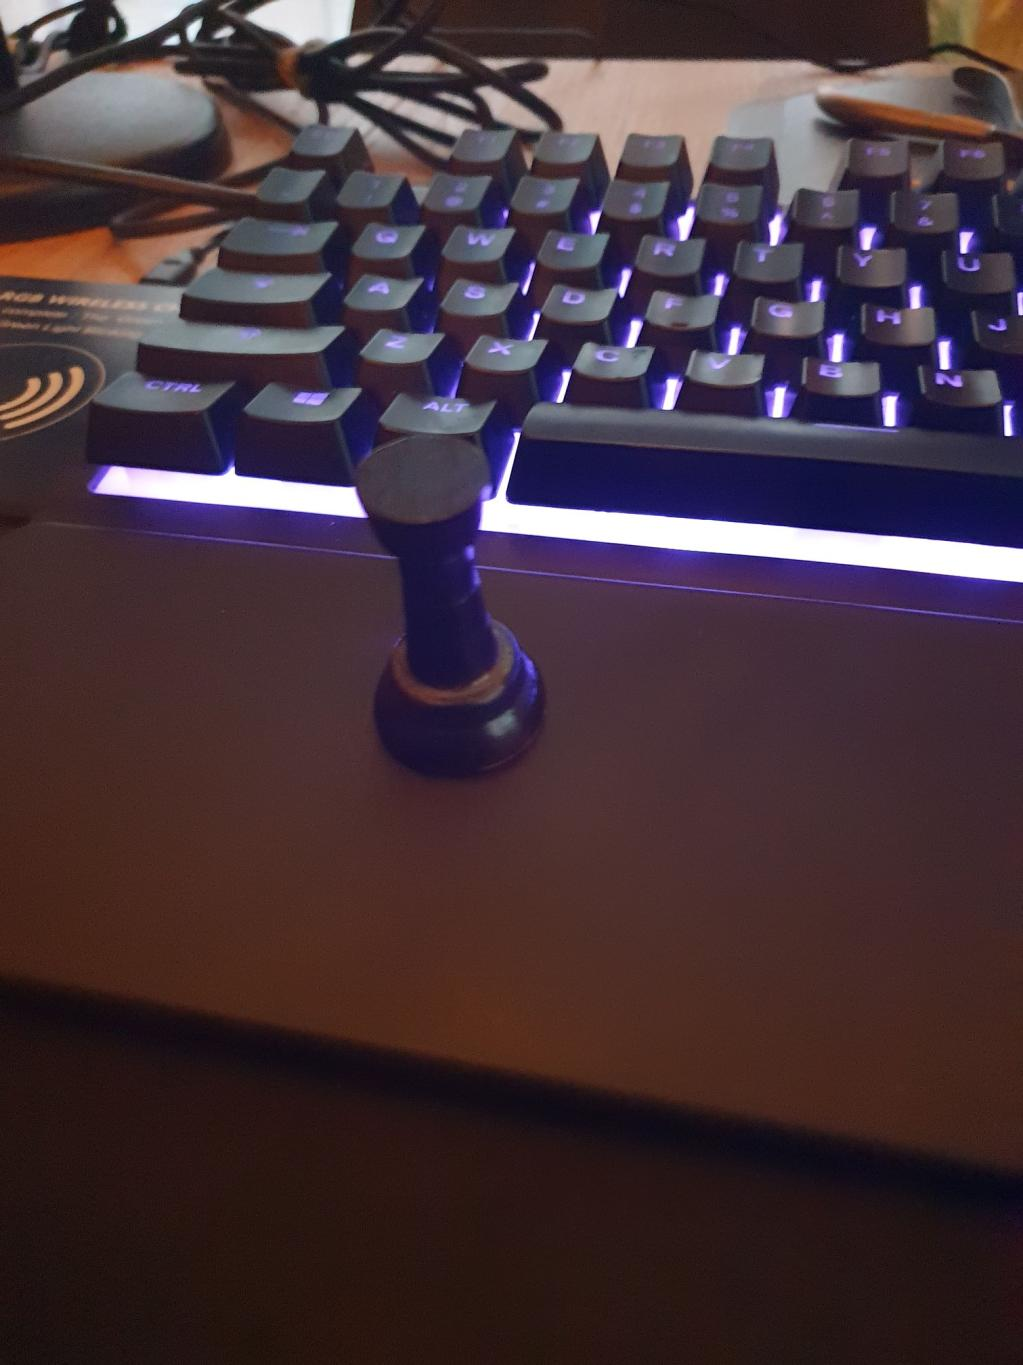brook: (358, 435, 544, 779)
